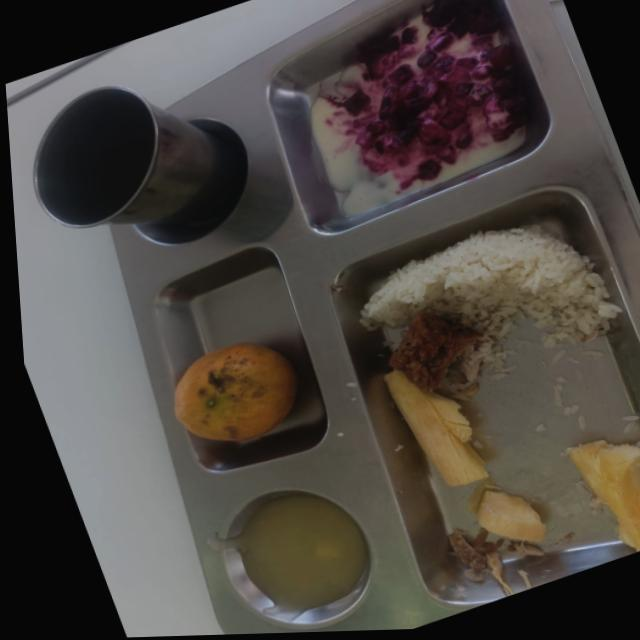arroz: (361, 225, 622, 383), (448, 358, 456, 364), (443, 371, 446, 377), (438, 385, 439, 386)
mandarina: (175, 343, 298, 441)
pescado frito: (390, 312, 483, 390), (449, 532, 486, 569)
yuca: (386, 370, 488, 487), (570, 441, 639, 550), (474, 481, 546, 543), (480, 486, 481, 487)
